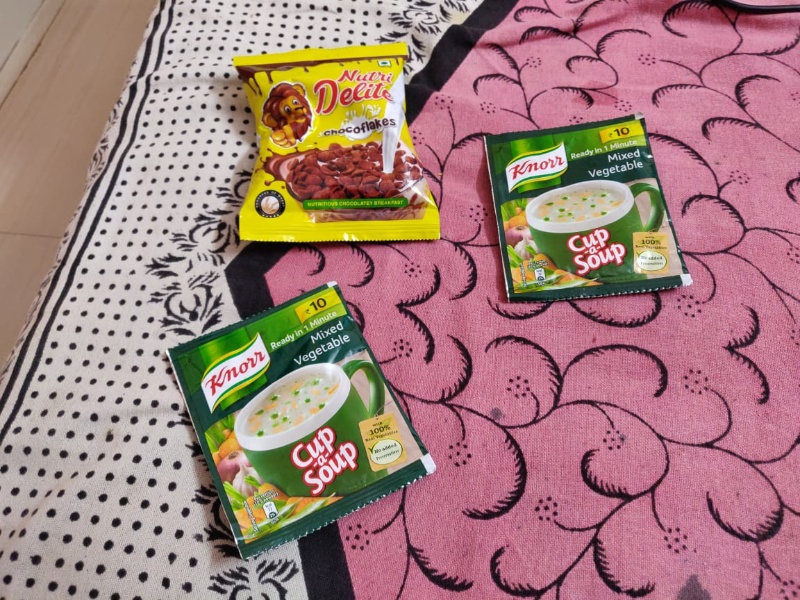Knorr_Cup_Soup: (166, 298, 430, 553), (488, 117, 691, 300)
nutriDelite: (241, 44, 429, 251)
